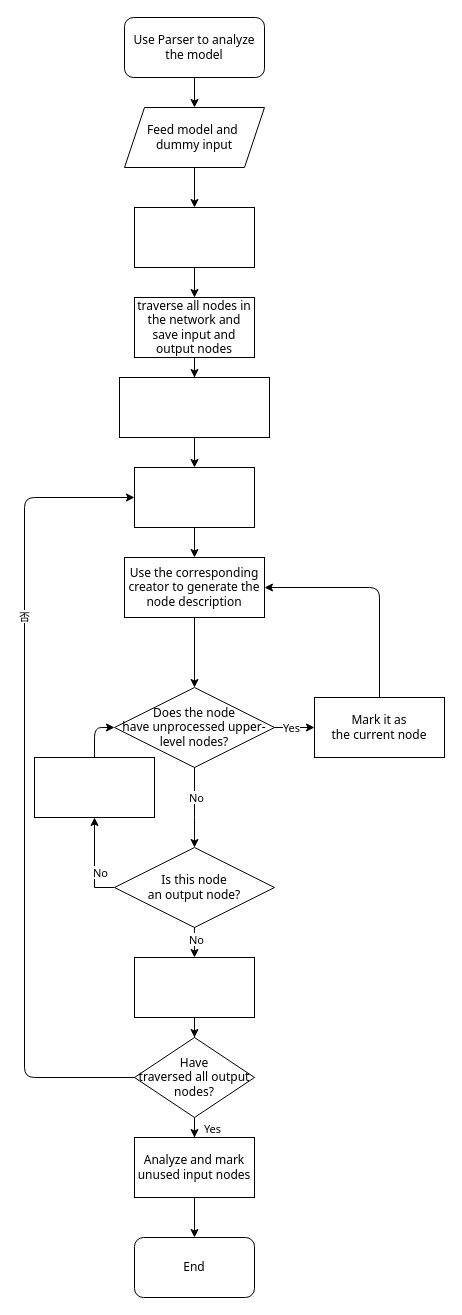
Image size: 462x1315. Some labels were removed from this diagram. The shapes that lost their labels are listed below. From the top down, each one's centre as x and y in pixels, then its label:
[194,237]: Use the platform C++ API to read network information
[194,407]: Generate the information of the input nodes as the traversal end condition
[194,497]: Mark the next untraversed output node as the current node
[94,787]: Return to the lower-level node of this node
[194,987]: Special processing of the output layer
